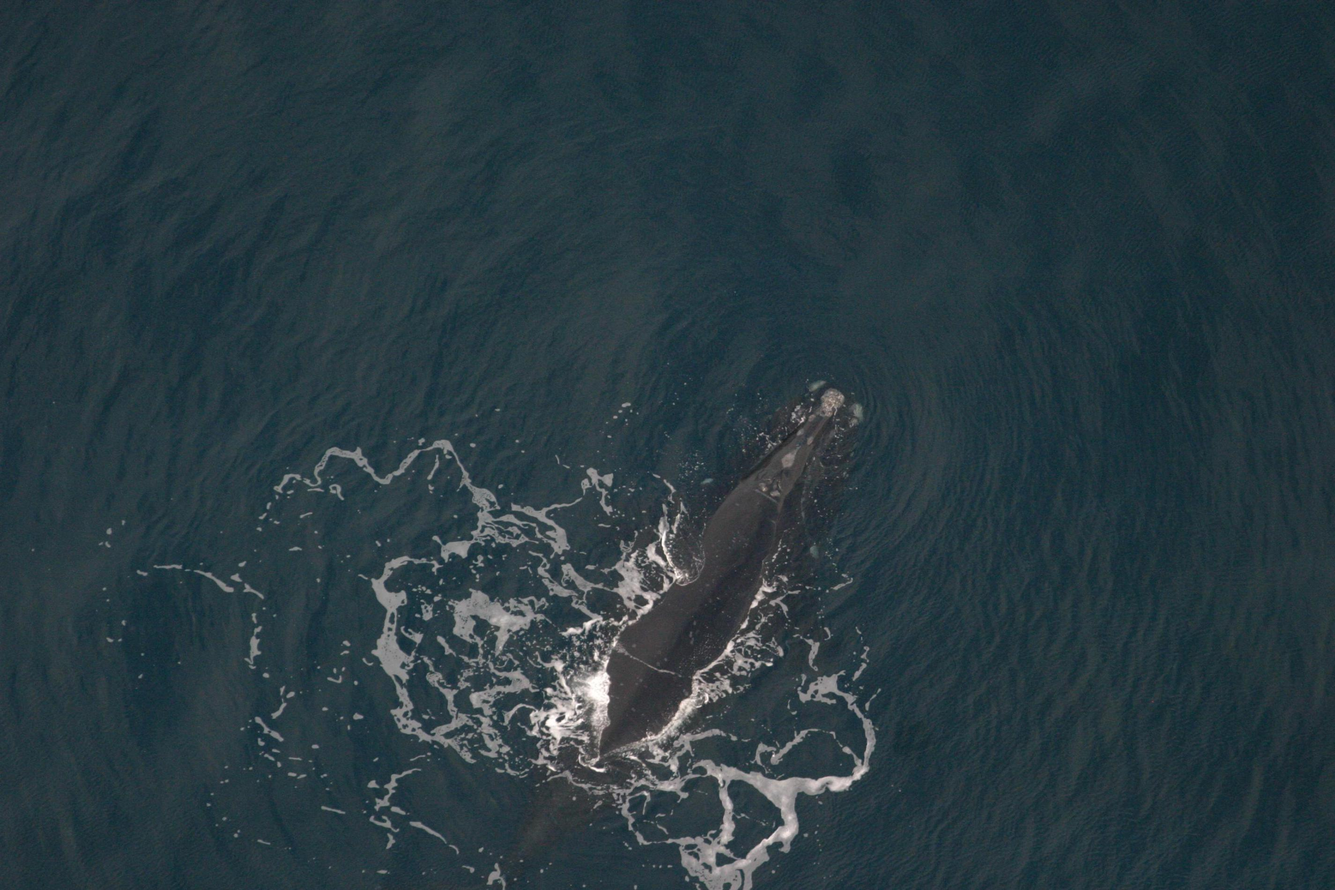whale: (479, 371, 877, 890)
